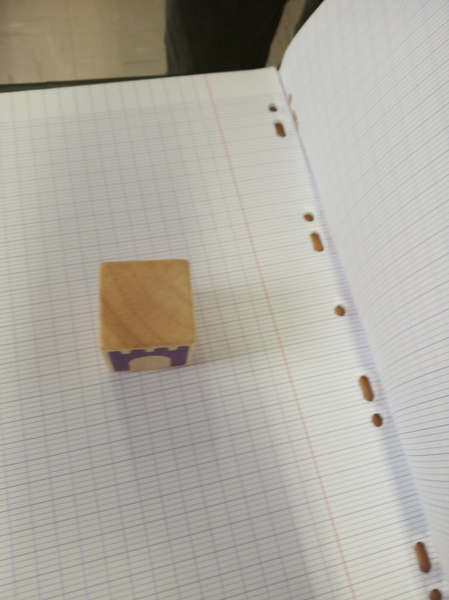violet: (94, 260, 197, 373)
